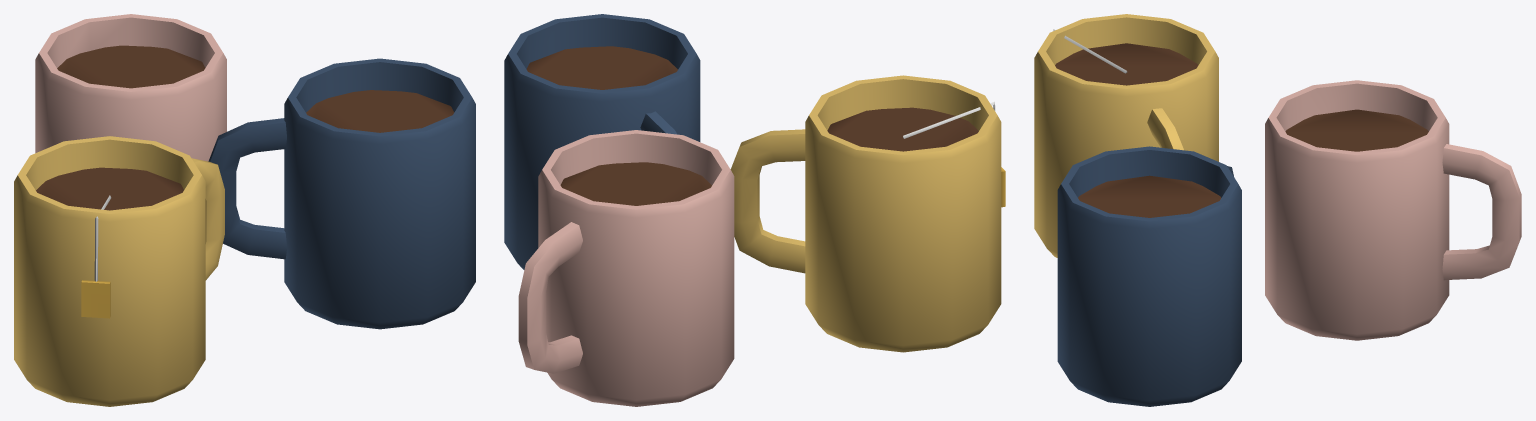
File: mugs.glb
3 renders of one model, left to right at view 1: azimuth 30°, elevation 25°; view 2: azimuth 150°, elevation 25°; view 3: azimuth 270°, elevation 25°, orthographic. The views are drawn at different scales.
Visible parts, largest first — view 1: mugs; view 2: mugs; view 3: mugs.
Boxes of the visible parts, left/top/right/bottom form: mugs: left=14, top=14, right=475, bottom=406; mugs: left=504, top=14, right=1005, bottom=406; mugs: left=1034, top=14, right=1521, bottom=406.
Size of the model in its own units: 0.216 by 0.09 by 0.2113.
